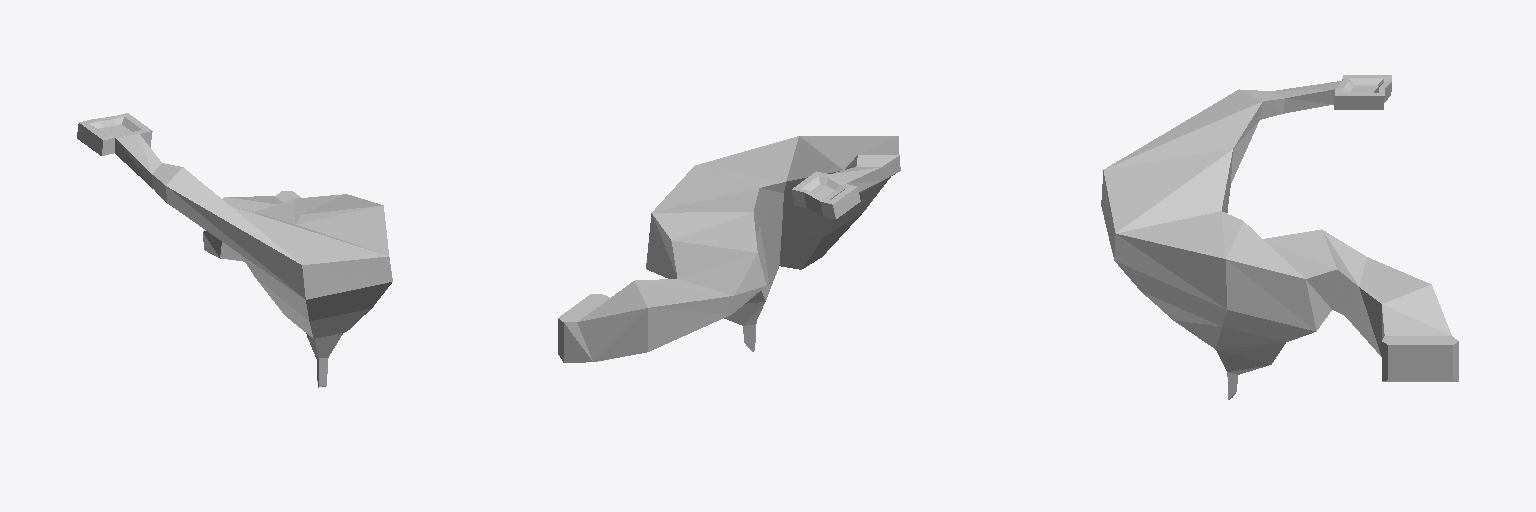
The model's file is World1Base7.obj.
The picture shows the model from 3 angles: view 1: azimuth 30°, elevation 25°; view 2: azimuth 150°, elevation 25°; view 3: azimuth 270°, elevation 25°; orthographic projection.
Parts seen in each view (by area): view 1: World2Base7; view 2: World2Base7; view 3: World2Base7.
Part boxes in pixels (left/top/right/bottom): World2Base7: left=77, top=113, right=392, bottom=387; World2Base7: left=558, top=136, right=900, bottom=362; World2Base7: left=1101, top=75, right=1458, bottom=399.
Size of the model in its own units: 51.03 by 48.67 by 63.93.